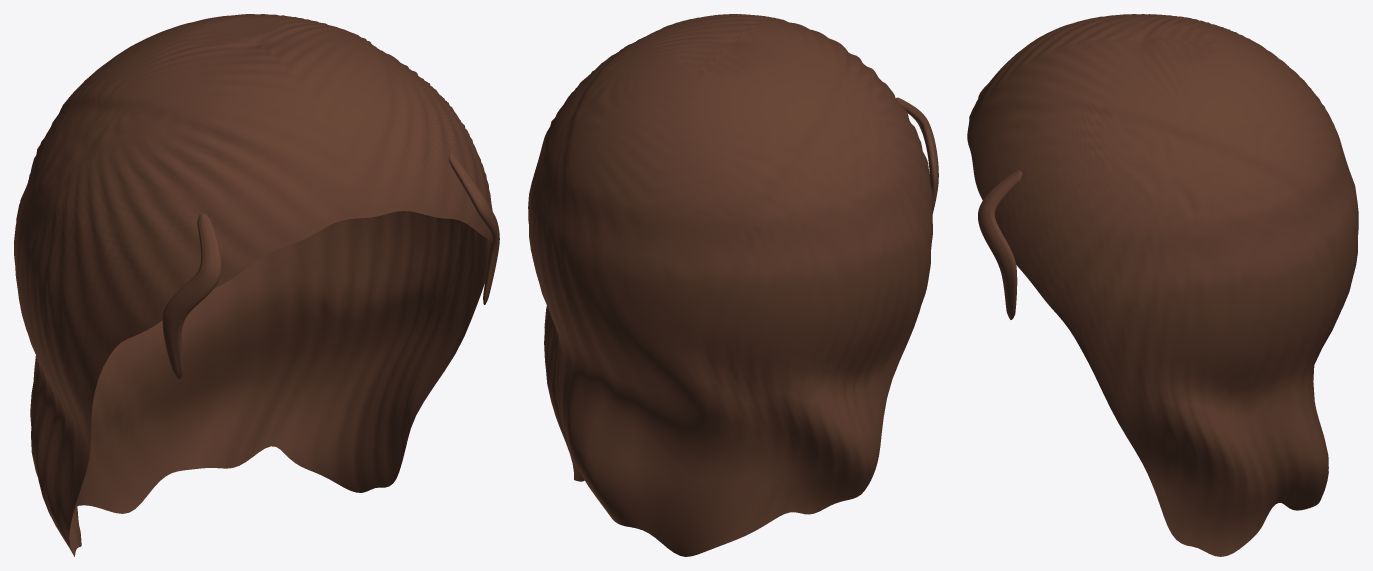
File: space-buns-bucket.glb
3 renders of one model, left to right at view 1: azimuth 30°, elevation 25°; view 2: azimuth 150°, elevation 25°; view 3: azimuth 270°, elevation 25°, orthographic. The views are drawn at different scales.
Parts seen in each view (by area): view 1: 226 hair / Hair / chestnut226.002; view 2: 226 hair / Hair / chestnut226.002; view 3: 226 hair / Hair / chestnut226.002.
Part boxes in pixels (left/top/right/bottom): 226 hair / Hair / chestnut226.002: left=14, top=14, right=499, bottom=556; 226 hair / Hair / chestnut226.002: left=528, top=14, right=938, bottom=556; 226 hair / Hair / chestnut226.002: left=967, top=14, right=1358, bottom=556.
Size of the model in its own units: 0.8048 by 0.9707 by 0.7316.
